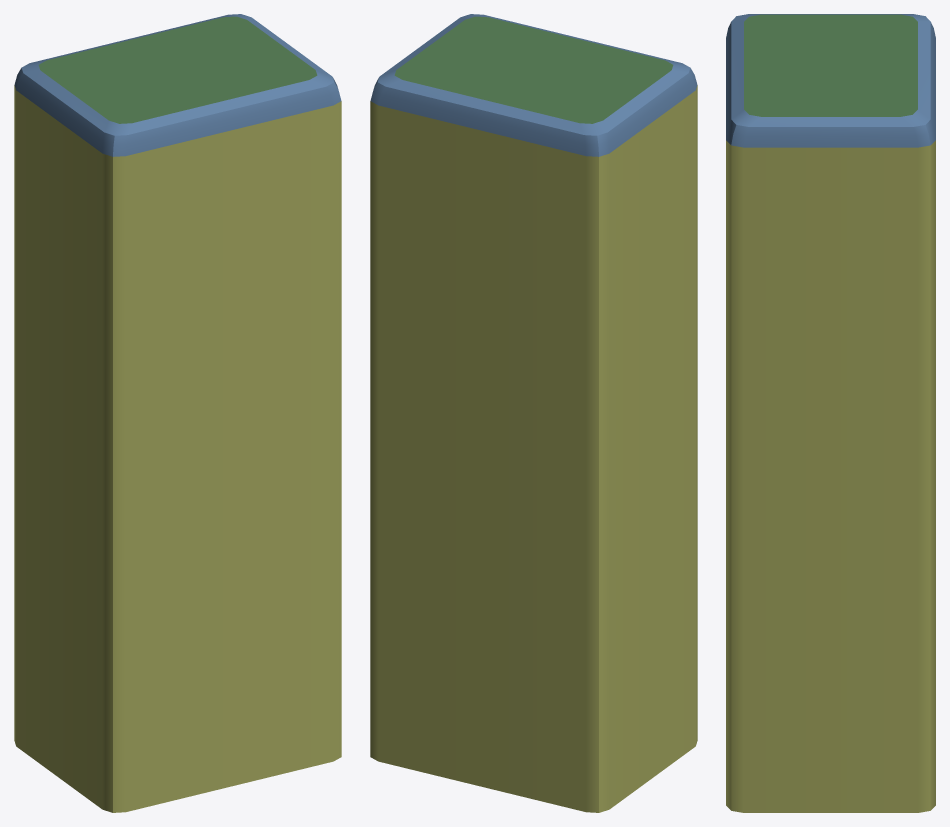
The model's file is Plat_Grande1.fbx.
3 views of the same model, side by side, from view 1: azimuth 30°, elevation 25°; view 2: azimuth 150°, elevation 25°; view 3: azimuth 270°, elevation 25° (orthographic).
Parts seen in each view (by area): view 1: Plat_grande1, Ground3, Wall3; view 2: Plat_grande1, Ground3, Wall3; view 3: Plat_grande1, Ground3, Wall3.
Part boxes in pixels (x1,y1,x2,y2): Plat_grande1: (14, 85, 341, 812); Ground3: (38, 16, 317, 123); Wall3: (14, 14, 341, 156); Plat_grande1: (370, 85, 697, 812); Ground3: (394, 16, 673, 123); Wall3: (370, 14, 697, 156); Plat_grande1: (726, 140, 935, 812); Ground3: (744, 14, 917, 116); Wall3: (726, 14, 935, 147).
Bounding box in the file's own units: 5300 × 14484 × 3998.
